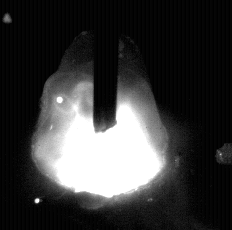arame: (94, 0, 118, 132)
poca: (31, 0, 168, 230)
